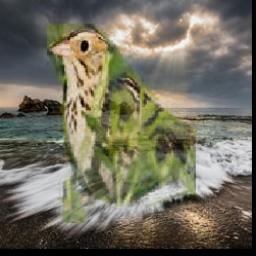Sparrow: (47, 24, 196, 223)
